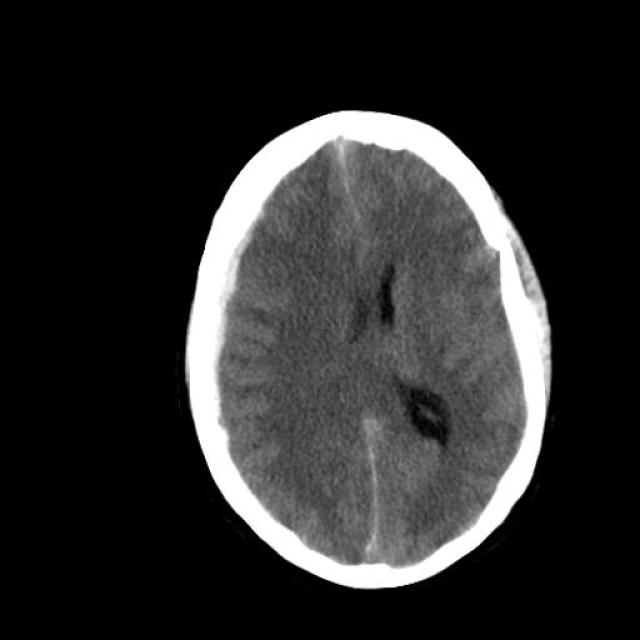Subdural: (185, 187, 291, 398)
